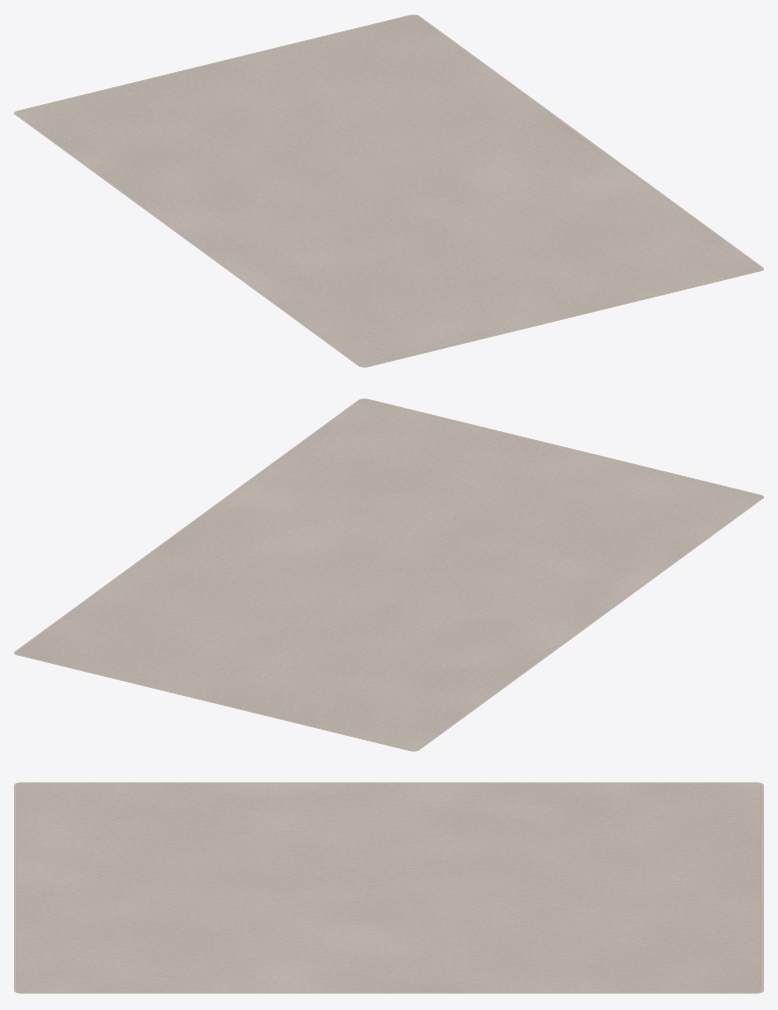
File: beige_XL.glb
3 views of the same model, one above another, from view 1: azimuth 30°, elevation 25°; view 2: azimuth 150°, elevation 25°; view 3: azimuth 270°, elevation 25° (orthographic). The views are drawn at different scales.
Visible parts, largest first — view 1: reliv_beige_XL; view 2: reliv_beige_XL; view 3: reliv_beige_XL.
Part boxes in pixels (<box>): reliv_beige_XL: <box>14,14,763,367</box>; reliv_beige_XL: <box>14,398,763,751</box>; reliv_beige_XL: <box>14,782,763,993</box>.
Size of the model in its own units: 2 by 0.009 by 3.
Materials: 2 (1 with a texture image).
